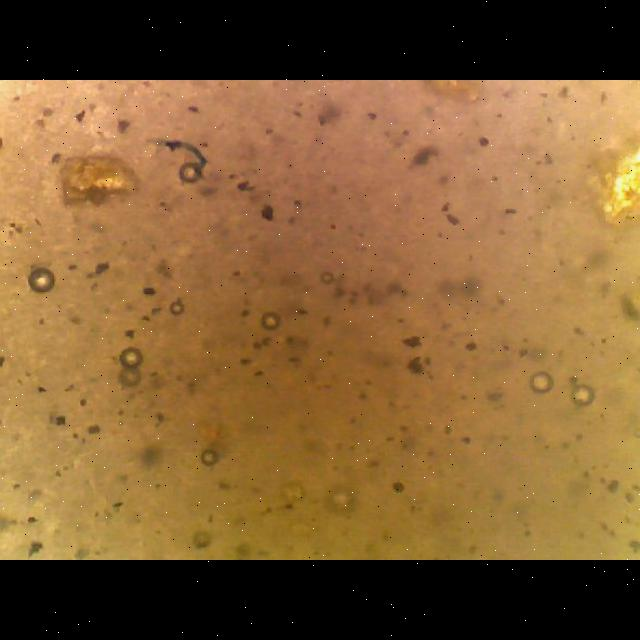Fragment: (44, 146, 150, 214), (388, 80, 508, 112)
microbeads: (325, 482, 357, 516), (24, 266, 60, 296), (527, 368, 559, 398), (118, 344, 146, 372), (570, 382, 596, 411), (258, 310, 284, 334), (198, 448, 220, 470), (167, 298, 186, 316), (0, 132, 6, 152)
